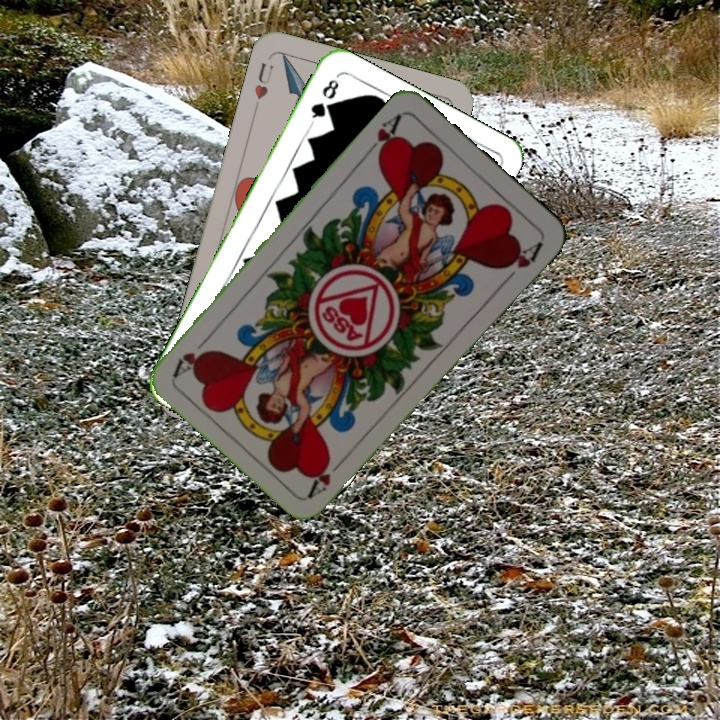G8: (306, 75, 342, 127)
HA: (361, 110, 405, 162), (304, 451, 350, 500)
HU: (250, 59, 276, 103)
